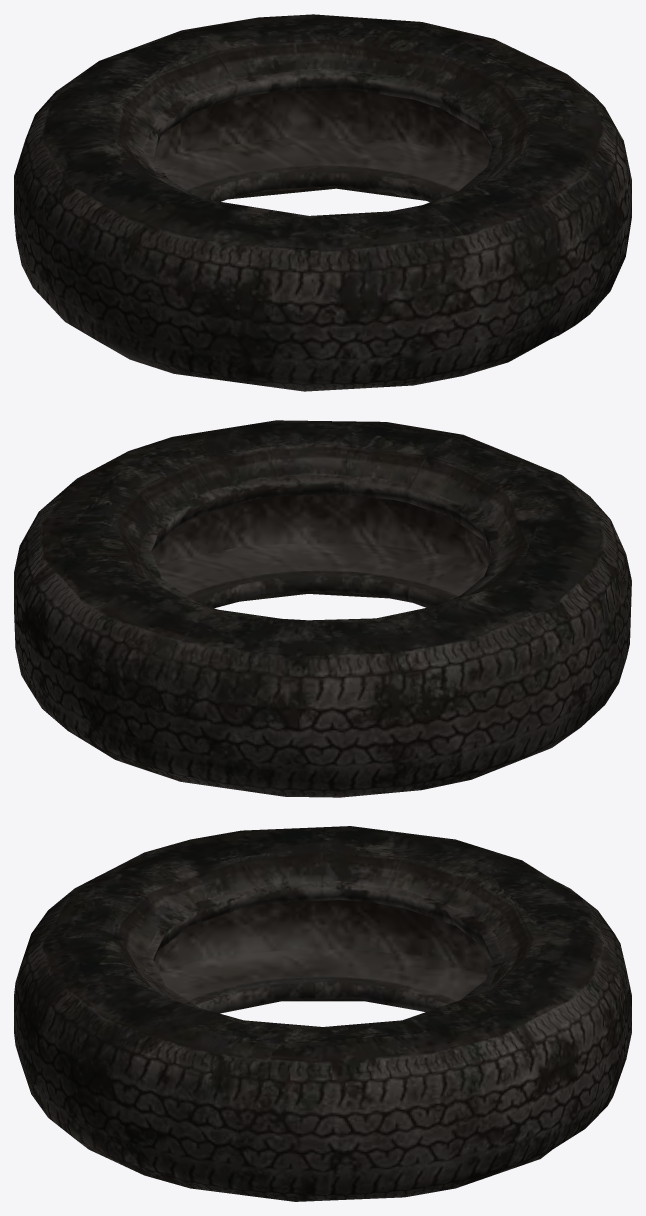
Rendered from tyre.glb.
3 views of the same model, one above another, from view 1: azimuth 30°, elevation 25°; view 2: azimuth 150°, elevation 25°; view 3: azimuth 270°, elevation 25° (orthographic).
Visible parts, largest first — view 1: old_tyre; view 2: old_tyre; view 3: old_tyre.
Boxes of the visible parts, bbox=[...] form: old_tyre: bbox=[14, 14, 631, 391]; old_tyre: bbox=[14, 420, 631, 797]; old_tyre: bbox=[14, 826, 631, 1201].
Size of the model in its own units: 0.6 by 0.165 by 0.6.
Materials: 1 (1 with a texture image).
